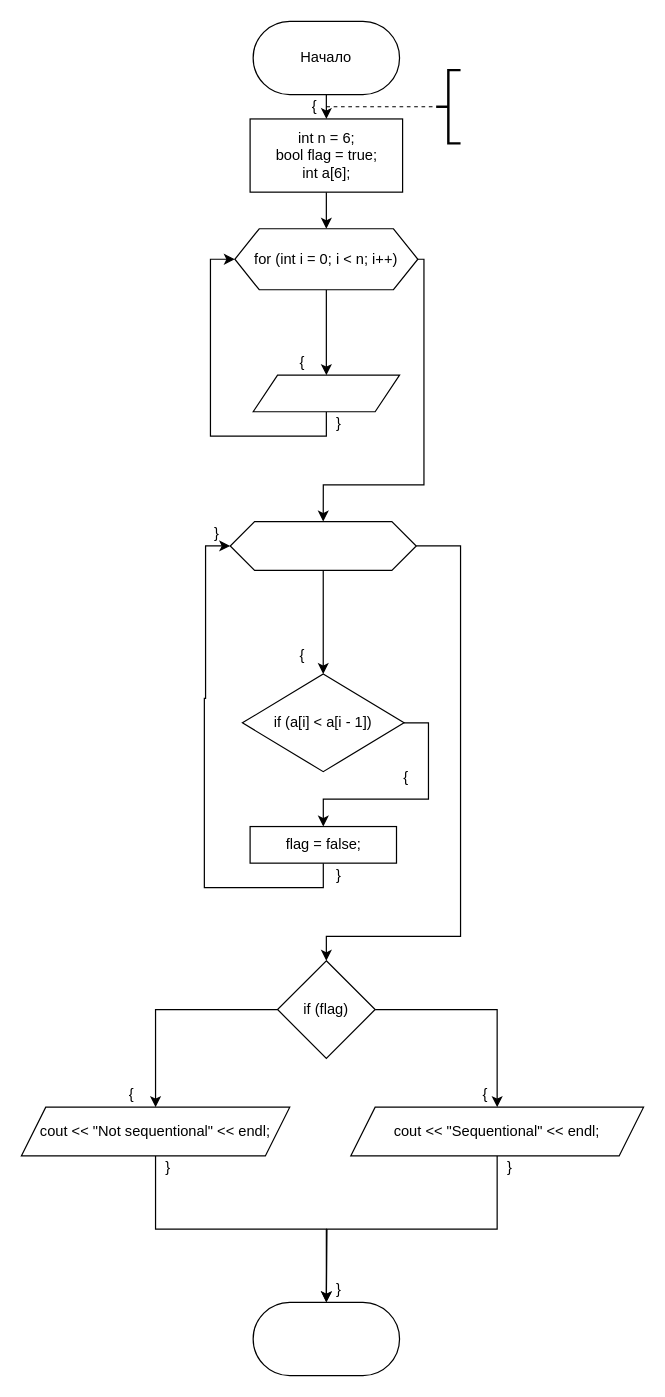
Image size: 665x1397. Some labels were removed from this diagram. The box of each missing label's shape, as (x1, y1, x2, y2) in pixels:
#include <iostream> using namespace std; int main(): (434, 68, 461, 144)
cin >>a[i];: (252, 374, 400, 412)
for (int i = n - 1; i > 0; i--): (229, 520, 416, 570)
Конец: (252, 1301, 400, 1376)
